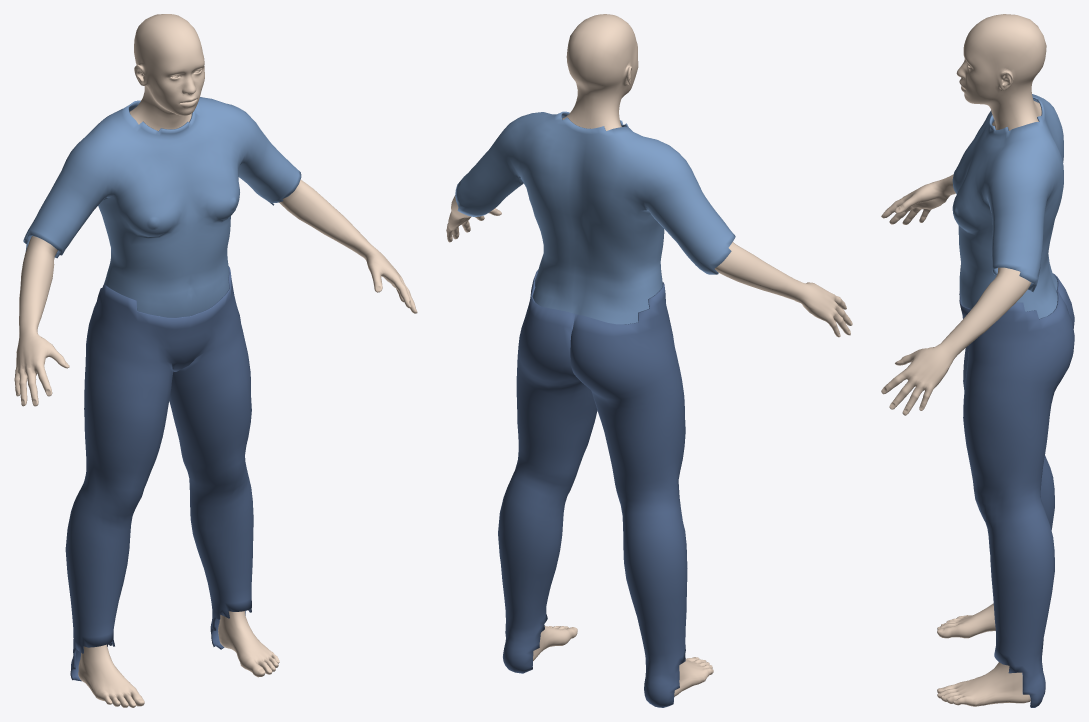
File: avatar_698c349ac896.glb
3 renders of one model, left to right at view 1: azimuth 30°, elevation 25°; view 2: azimuth 150°, elevation 25°; view 3: azimuth 270°, elevation 25°, orthographic.
Parts seen in each view (by area): view 1: garment_jeans, garment_tshirt, Human_gen; view 2: garment_jeans, garment_tshirt, Human_gen; view 3: garment_jeans, Human_gen, garment_tshirt.
Boxes of the visible parts, box(x1,y1,x2,y2) form: garment_jeans: box(65, 266, 253, 681); garment_tshirt: box(23, 97, 301, 317); Human_gen: box(14, 14, 417, 707); garment_jeans: box(498, 269, 687, 707); garment_tshirt: box(455, 111, 735, 324); Human_gen: box(446, 14, 852, 696); garment_jeans: box(959, 273, 1074, 707); Human_gen: box(881, 14, 1046, 706); garment_tshirt: box(952, 94, 1063, 318).
Size of the model in its own units: 1.05 by 1.67 by 0.4479.
